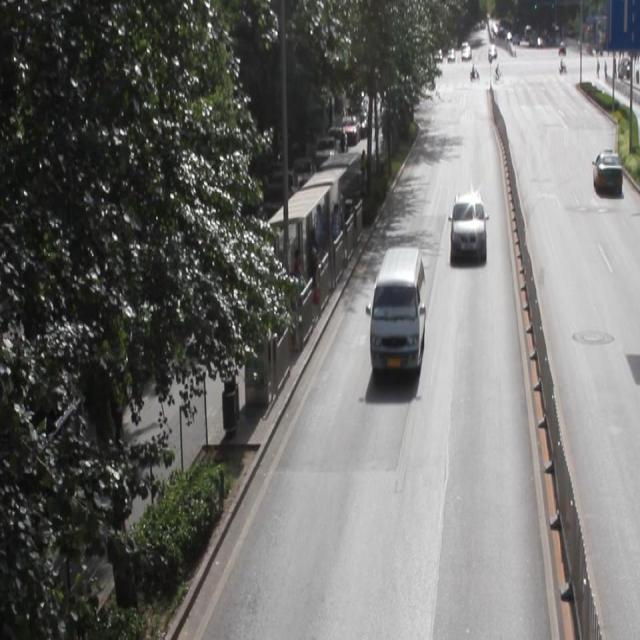car: (449, 194, 486, 255), (592, 148, 620, 193)
truck: (368, 244, 428, 375)
